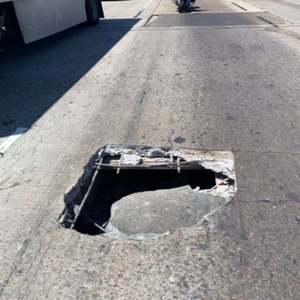pothole: (55, 142, 241, 242)
